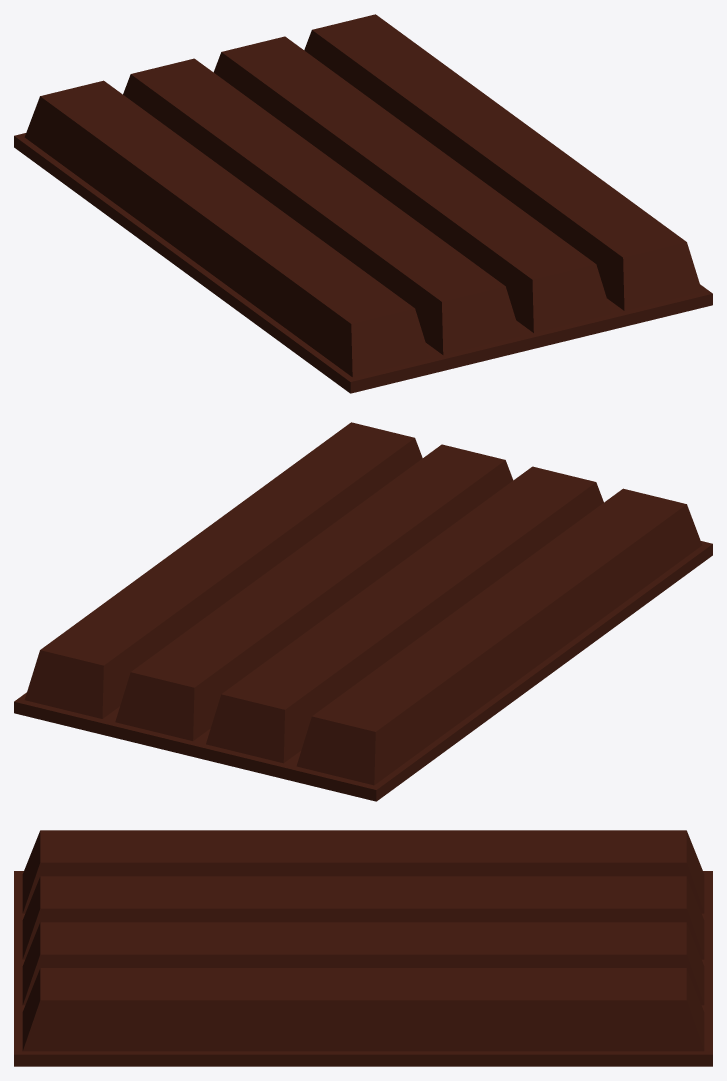
File: BitBat2.fbx
3 views of the same model, one above another, from view 1: azimuth 30°, elevation 25°; view 2: azimuth 150°, elevation 25°; view 3: azimuth 270°, elevation 25° (orthographic). The views are drawn at different scales.
Visible parts, largest first — view 1: Cube.003; view 2: Cube.003; view 3: Cube.003.
Part boxes in pixels (x1,y1,x2,y2): Cube.003: (14,14,712,393); Cube.003: (14,422,712,801); Cube.003: (14,830,712,1066).
Bounding box in the file's own units: 575 × 86.75 × 925.
